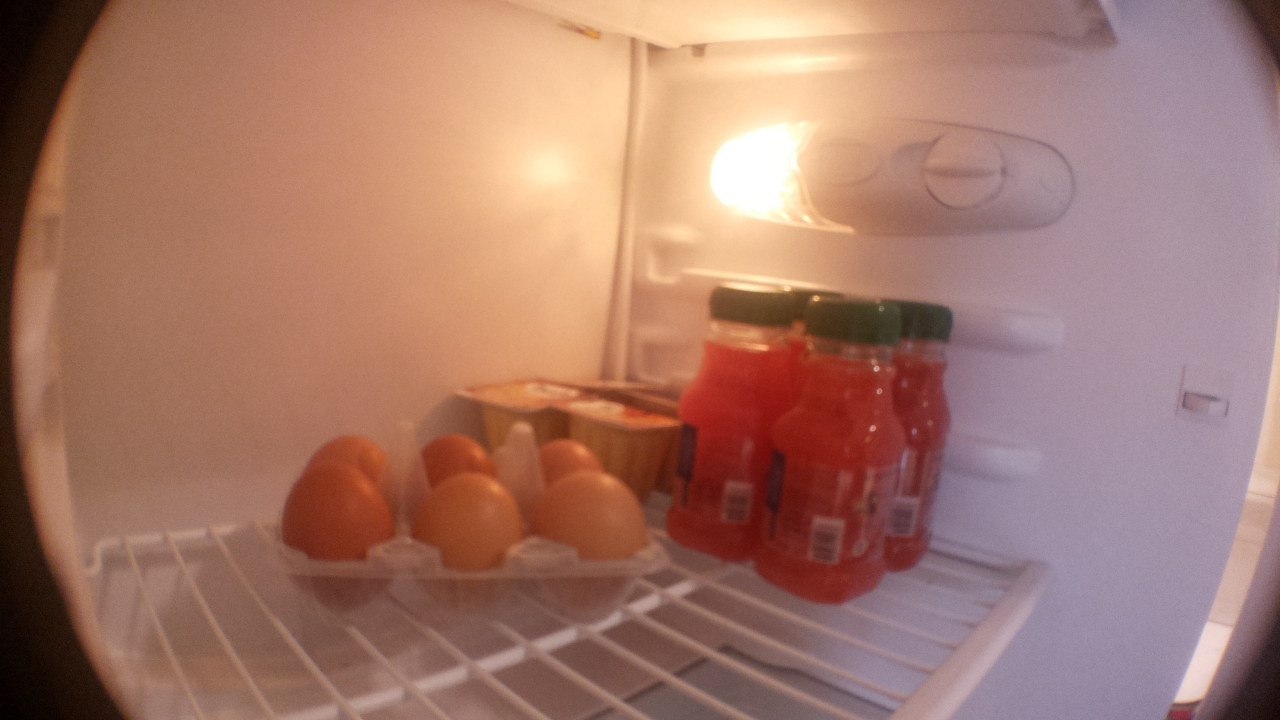caramel: (567, 401, 674, 480), (459, 373, 581, 431), (564, 367, 662, 405)
egg: (527, 472, 652, 622), (280, 469, 401, 622), (410, 473, 528, 617), (289, 423, 409, 513), (408, 425, 502, 489), (530, 425, 609, 499)
juice: (764, 293, 890, 604), (671, 276, 772, 565), (895, 290, 954, 577)
